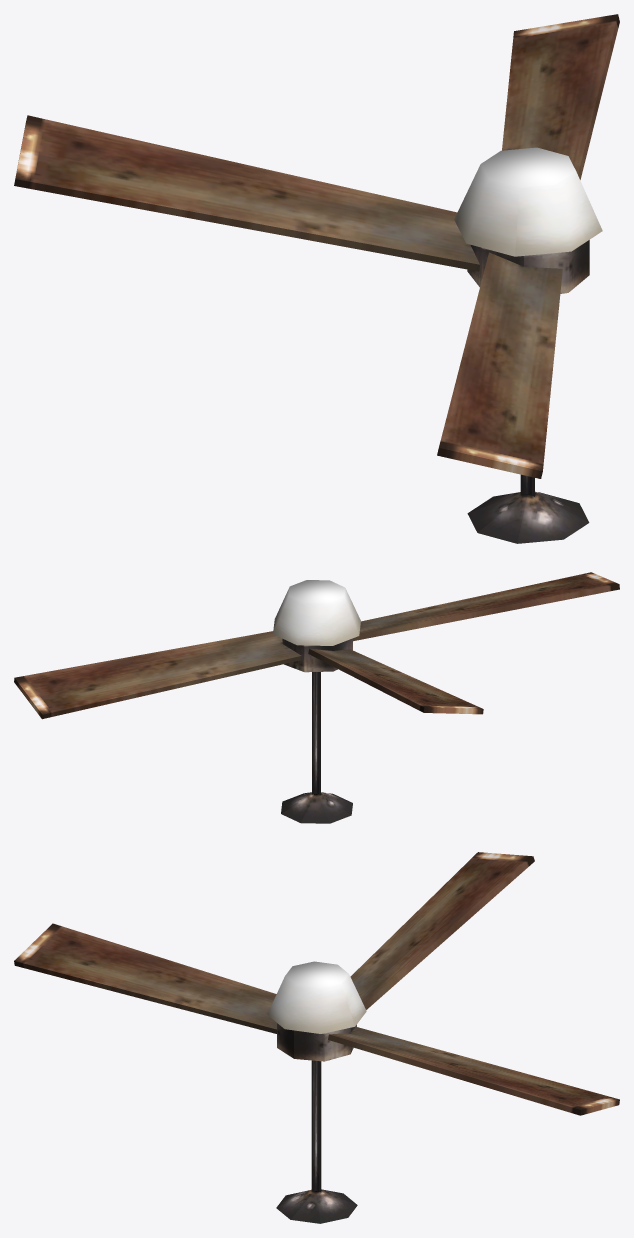
The model's file is fan_broken1.fbx.
3 renders of one model, top to bottom at view 1: azimuth 30°, elevation 25°; view 2: azimuth 150°, elevation 25°; view 3: azimuth 270°, elevation 25°, orthographic. The views are drawn at different scales.
Parts seen in each view (by area): view 1: mesh_0, mesh_1; view 2: mesh_0, mesh_1; view 3: mesh_0, mesh_1.
Part boxes in pixels (x1,y1,x2,y2): mesh_0: (14, 14, 619, 478); mesh_1: (454, 147, 602, 543); mesh_0: (14, 572, 619, 719); mesh_1: (273, 580, 360, 823); mesh_0: (14, 852, 619, 1115); mesh_1: (267, 961, 366, 1223).
Bounding box in the file's own units: 128 × 65.65 × 149.
Materials: 1 (1 with a texture image).
